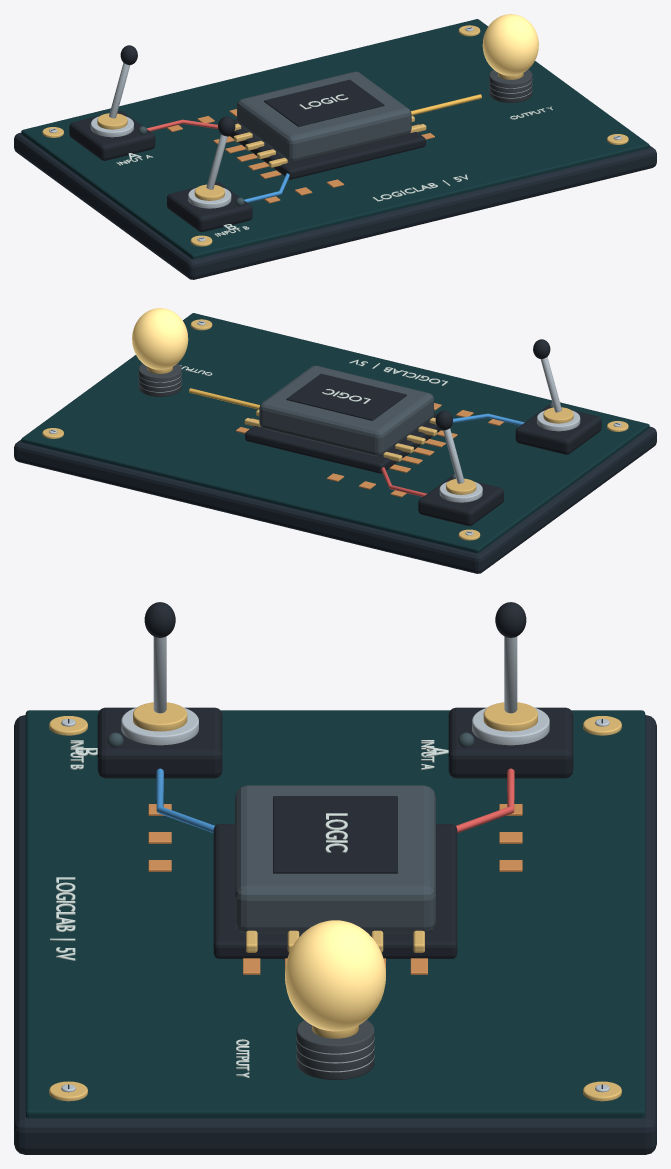
The model's file is LogicCircuitKit.fbx.
The picture shows the model from 3 angles, top to bottom: view 1: azimuth 30°, elevation 25°; view 2: azimuth 150°, elevation 25°; view 3: azimuth 270°, elevation 25°; orthographic projection. The views are drawn at different scales.
Parts seen in each view (by area): view 1: CircuitBoardTop, CircuitBoard, GatePackage, GatePackageInset, GateSocket, OutputBulbGlass, InputSwitchA_Housing, InputSwitchB_Housing, OutputBulbSocket, InputSwitchA_Mount, InputSwitchB_Mount, InputSwitchB_Lever (+3 smaller); view 2: CircuitBoardTop, CircuitBoard, GatePackage, GatePackageInset, GateSocket, OutputBulbGlass, InputSwitchB_Housing, InputSwitchA_Housing, OutputBulbSocket, InputSwitchB_Mount, InputSwitchA_Mount, InputSwitchA_Lever (+3 smaller); view 3: CircuitBoardTop, CircuitBoard, GatePackage, GatePackageInset, OutputBulbGlass, GateSocket, InputSwitchB_Housing, InputSwitchA_Housing, OutputBulbSocket, InputSwitchA_Mount, InputSwitchB_Mount, InputSwitchA_Collar (+8 smaller).
Boxes of the visible parts, box(x1,y1,x2,y2) form: CircuitBoardTop: box(21, 19, 649, 259); CircuitBoard: box(14, 132, 656, 279); GatePackage: box(237, 71, 411, 162); GatePackageInset: box(264, 79, 384, 126); GateSocket: box(230, 119, 425, 179); OutputBulbGlass: box(482, 14, 538, 75); InputSwitchA_Housing: box(69, 111, 155, 160); InputSwitchB_Housing: box(167, 182, 252, 231); OutputBulbSocket: box(489, 69, 532, 102); InputSwitchA_Mount: box(90, 116, 133, 137); InputSwitchB_Mount: box(188, 187, 231, 208); InputSwitchB_Lever: box(206, 134, 227, 189); CircuitBoardTop: box(21, 313, 649, 553); CircuitBoard: box(14, 426, 656, 573); GatePackage: box(259, 365, 433, 456); GatePackageInset: box(286, 373, 406, 420); GateSocket: box(245, 413, 440, 473); OutputBulbGlass: box(132, 308, 188, 369); InputSwitchB_Housing: box(515, 405, 601, 454); InputSwitchA_Housing: box(418, 477, 503, 525); OutputBulbSocket: box(138, 363, 181, 396); InputSwitchB_Mount: box(537, 410, 580, 431); InputSwitchA_Mount: box(439, 481, 482, 502); InputSwitchA_Lever: box(443, 428, 464, 483); CircuitBoardTop: box(25, 710, 645, 1118); CircuitBoard: box(14, 715, 656, 1154); GatePackage: box(235, 785, 435, 933); GatePackageInset: box(273, 796, 397, 873); OutputBulbGlass: box(285, 920, 385, 1031); GateSocket: box(213, 824, 457, 958); InputSwitchB_Housing: box(97, 707, 222, 778); InputSwitchA_Housing: box(448, 707, 573, 778); OutputBulbSocket: box(296, 1020, 374, 1079); InputSwitchA_Mount: box(472, 707, 549, 745); InputSwitchB_Mount: box(121, 707, 198, 745); InputSwitchA_Collar: box(483, 702, 537, 731).
Bounding box in the file's own units: 0.5 × 0.1194 × 0.33.
